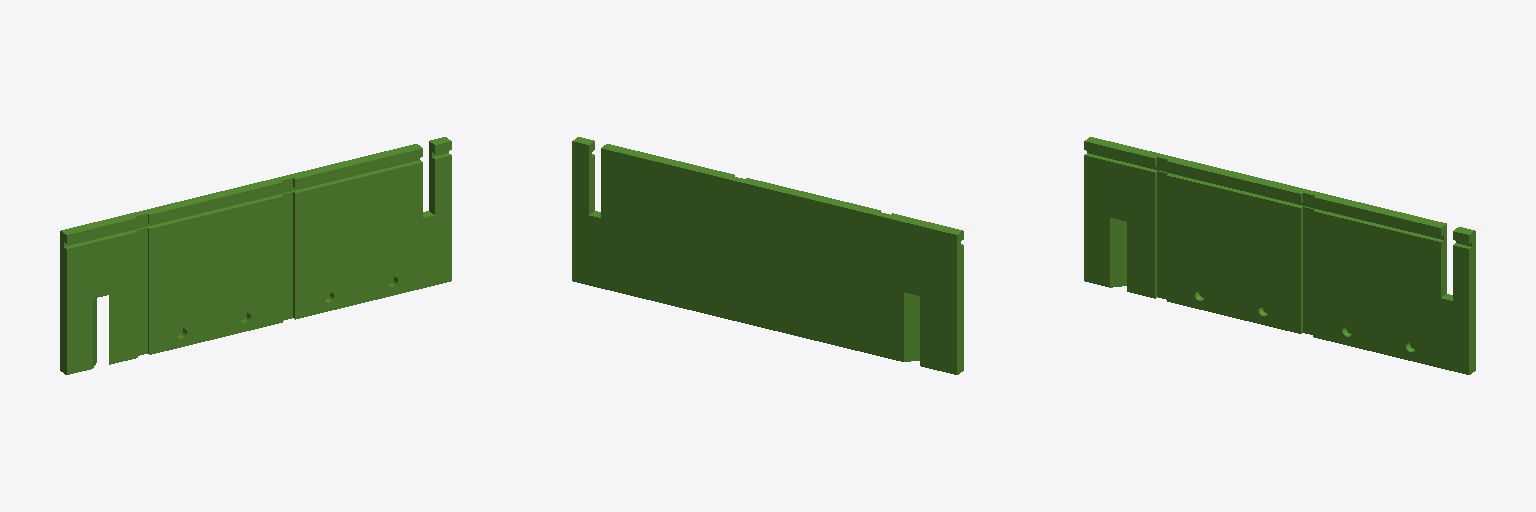
3 views of the same model, side by side, from view 1: azimuth 30°, elevation 25°; view 2: azimuth 150°, elevation 25°; view 3: azimuth 330°, elevation 25° (orthographic).
Visible parts, largest first — view 1: bright_green_part; view 2: bright_green_part; view 3: bright_green_part.
Boxes of the visible parts, <box> form: bright_green_part: <box>60,137,451,374</box>; bright_green_part: <box>572,137,963,374</box>; bright_green_part: <box>1084,137,1475,374</box>.
Bounding box in the file's own units: 0.23 × 0.08 × 0.0065.
Materials: 1 (1 with a texture image).